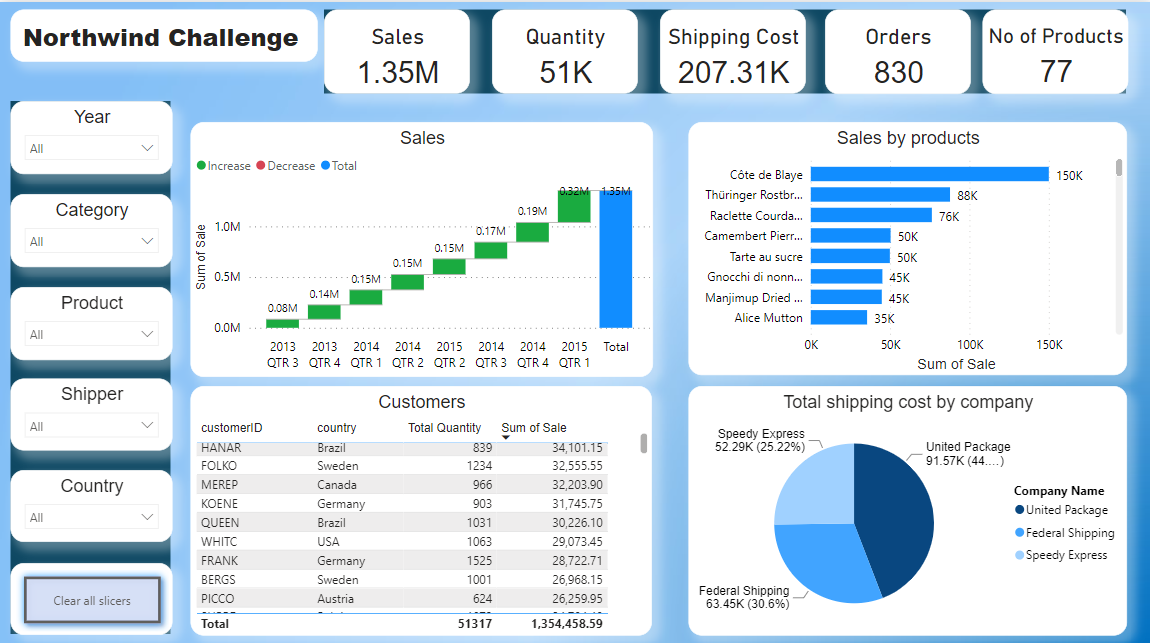

The dashboard page shown, as its layout file describes it:
{"tool":"powerbi","page":{"name":"Dashboard","canvas":[1280,720],"ordinal":0},"visuals":[{"type":"textbox","box":[12,7.5,341.2,58],"z":0},{"type":"card","title":"Sales","fields":{"Values":["orders.Total sales"]},"box":[359.2,7.9,162.3,93.5],"z":1000,"group":"g1"},{"type":"waterfallChart","title":"Sales ","fields":{"Y":["Sum(orders.Sale)"],"Category":["Dim_Date.year","Dim_Date.QTR"]},"box":[211,133,514,283],"z":1000},{"type":"card","title":"Quantity","fields":{"Values":["orders.Total Quantity"]},"box":[545.6,7.9,162.3,93.5],"z":2000,"group":"g1"},{"type":"clusteredBarChart","title":"Sales by products","fields":{"Y":["Sum(orders.Sale)"],"Category":["orders.productName"]},"box":[765.7,133.5,487.1,281.4],"z":2000},{"type":"card","title":"Shipping Cost","fields":{"Values":["orders.Total shipping cost"]},"box":[732,7.9,162.3,93.5],"z":3000,"group":"g1"},{"type":"tableEx","title":"Customers","fields":{"Values":["customers.customerID","customers.country","orders.Total Quantity","Sum(orders.Sale)"]},"box":[211.4,427.1,512.9,277.1],"z":3000},{"type":"card","title":"No of Products","fields":{"Values":["orders.Total products"]},"box":[1090.5,8.3,162.1,93.8],"z":4000,"group":"g1"},{"type":"pieChart","title":"Total shipping cost by company","fields":{"Category":["shippers.companyName"],"Y":["orders.Total shipping cost"]},"box":[765.7,427.1,487.1,277.1],"z":4000},{"type":"group","id":"g1","title":"Group 1","box":[359.2,7.9,893.2,93.8],"z":5000},{"type":"card","title":"Orders","fields":{"Values":["orders.No of orders"]},"box":[915.6,8.3,162.1,93.8],"z":5000,"group":"g1"},{"type":"group","id":"g2","title":"Group 2","box":[11.1,109.7,179.6,591.3],"z":6000},{"type":"slicer","title":"Year","fields":{"Values":["Dim_Date.year"]},"box":[11.1,109.7,180,81.2],"z":6000,"group":"g2"},{"type":"slicer","title":"Category","fields":{"Values":["orders.categoryName"]},"box":[11.1,212.7,180,81.2],"z":7000,"group":"g2"},{"type":"slicer","title":"Product","fields":{"Values":["orders.productName"]},"box":[11.1,315.7,180,81.2],"z":8000,"group":"g2"},{"type":"slicer","title":"Shipper","fields":{"Values":["shippers.companyName"]},"box":[11.1,418.7,180,80],"z":9000,"group":"g2"},{"type":"slicer","title":"Country","fields":{"Values":["customers.country"]},"box":[11.1,520.5,180,80],"z":11000,"group":"g2"},{"type":"actionButton","box":[11.1,622.2,180,80],"z":12000,"group":"g2"}]}

Visuals, with their boxes in screenshot pixels (x1, y1, x2, y2), scaled from the page's 1280x720 canvas onto the 1150x643 screenshot:
textbox: <region>11, 7, 317, 58</region>
"Sales" card: <region>323, 7, 469, 91</region>
"Sales " waterfallChart: <region>190, 119, 651, 372</region>
"Quantity" card: <region>490, 7, 636, 91</region>
"Sales by products" clusteredBarChart: <region>688, 119, 1126, 371</region>
"Shipping Cost" card: <region>658, 7, 803, 91</region>
"Customers" tableEx: <region>190, 381, 651, 629</region>
"No of Products" card: <region>980, 7, 1125, 91</region>
"Total shipping cost by company" pieChart: <region>688, 381, 1126, 629</region>
"Group 1" group: <region>323, 7, 1125, 91</region>
"Orders" card: <region>823, 7, 968, 91</region>
"Group 2" group: <region>10, 98, 171, 626</region>
"Year" slicer: <region>10, 98, 172, 170</region>
"Category" slicer: <region>10, 190, 172, 262</region>
"Product" slicer: <region>10, 282, 172, 354</region>
"Shipper" slicer: <region>10, 374, 172, 445</region>
"Country" slicer: <region>10, 465, 172, 536</region>
actionButton: <region>10, 556, 172, 627</region>
